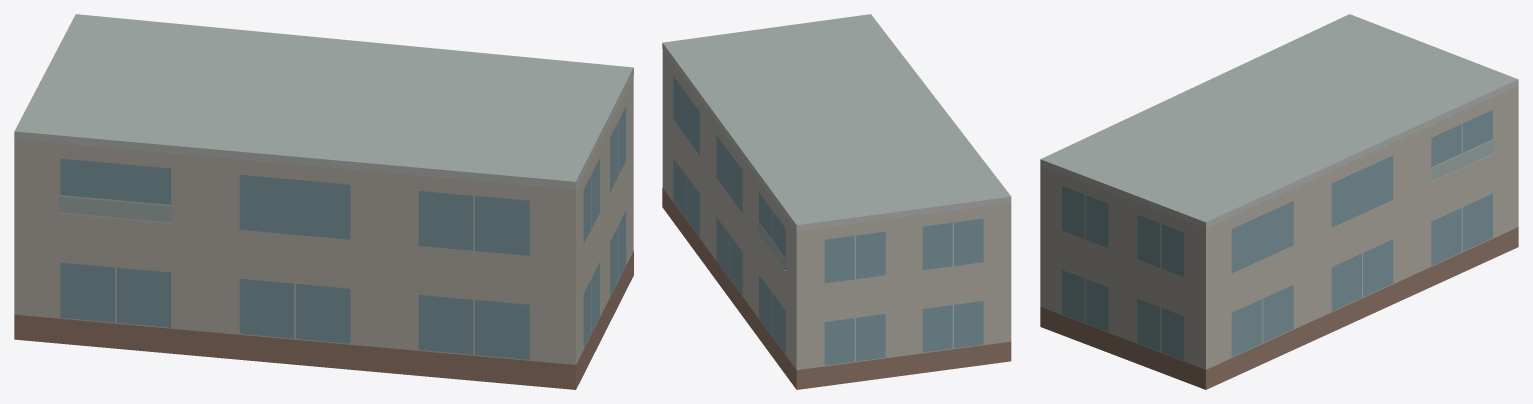
The model's file is survey-upis-32656293.glb.
3 views of the same model, side by side, from view 1: azimuth 30°, elevation 25°; view 2: azimuth 150°, elevation 25°; view 3: azimuth 270°, elevation 25° (orthographic). The views are drawn at different scales.
Visible parts, largest first — view 1: survey-upis-32656293.tmp; view 2: survey-upis-32656293.tmp; view 3: survey-upis-32656293.tmp.
Boxes of the visible parts, bbox=[...] form: survey-upis-32656293.tmp: bbox=[14, 14, 633, 389]; survey-upis-32656293.tmp: bbox=[662, 14, 1011, 389]; survey-upis-32656293.tmp: bbox=[1040, 14, 1518, 389].
Bounding box in the file's own units: 17.34 × 6.5 × 16.82.
